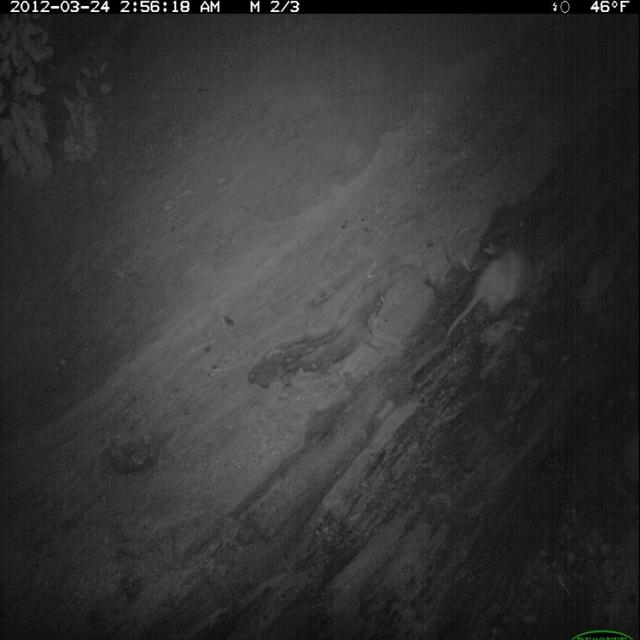opossum: (444, 242, 543, 349)
